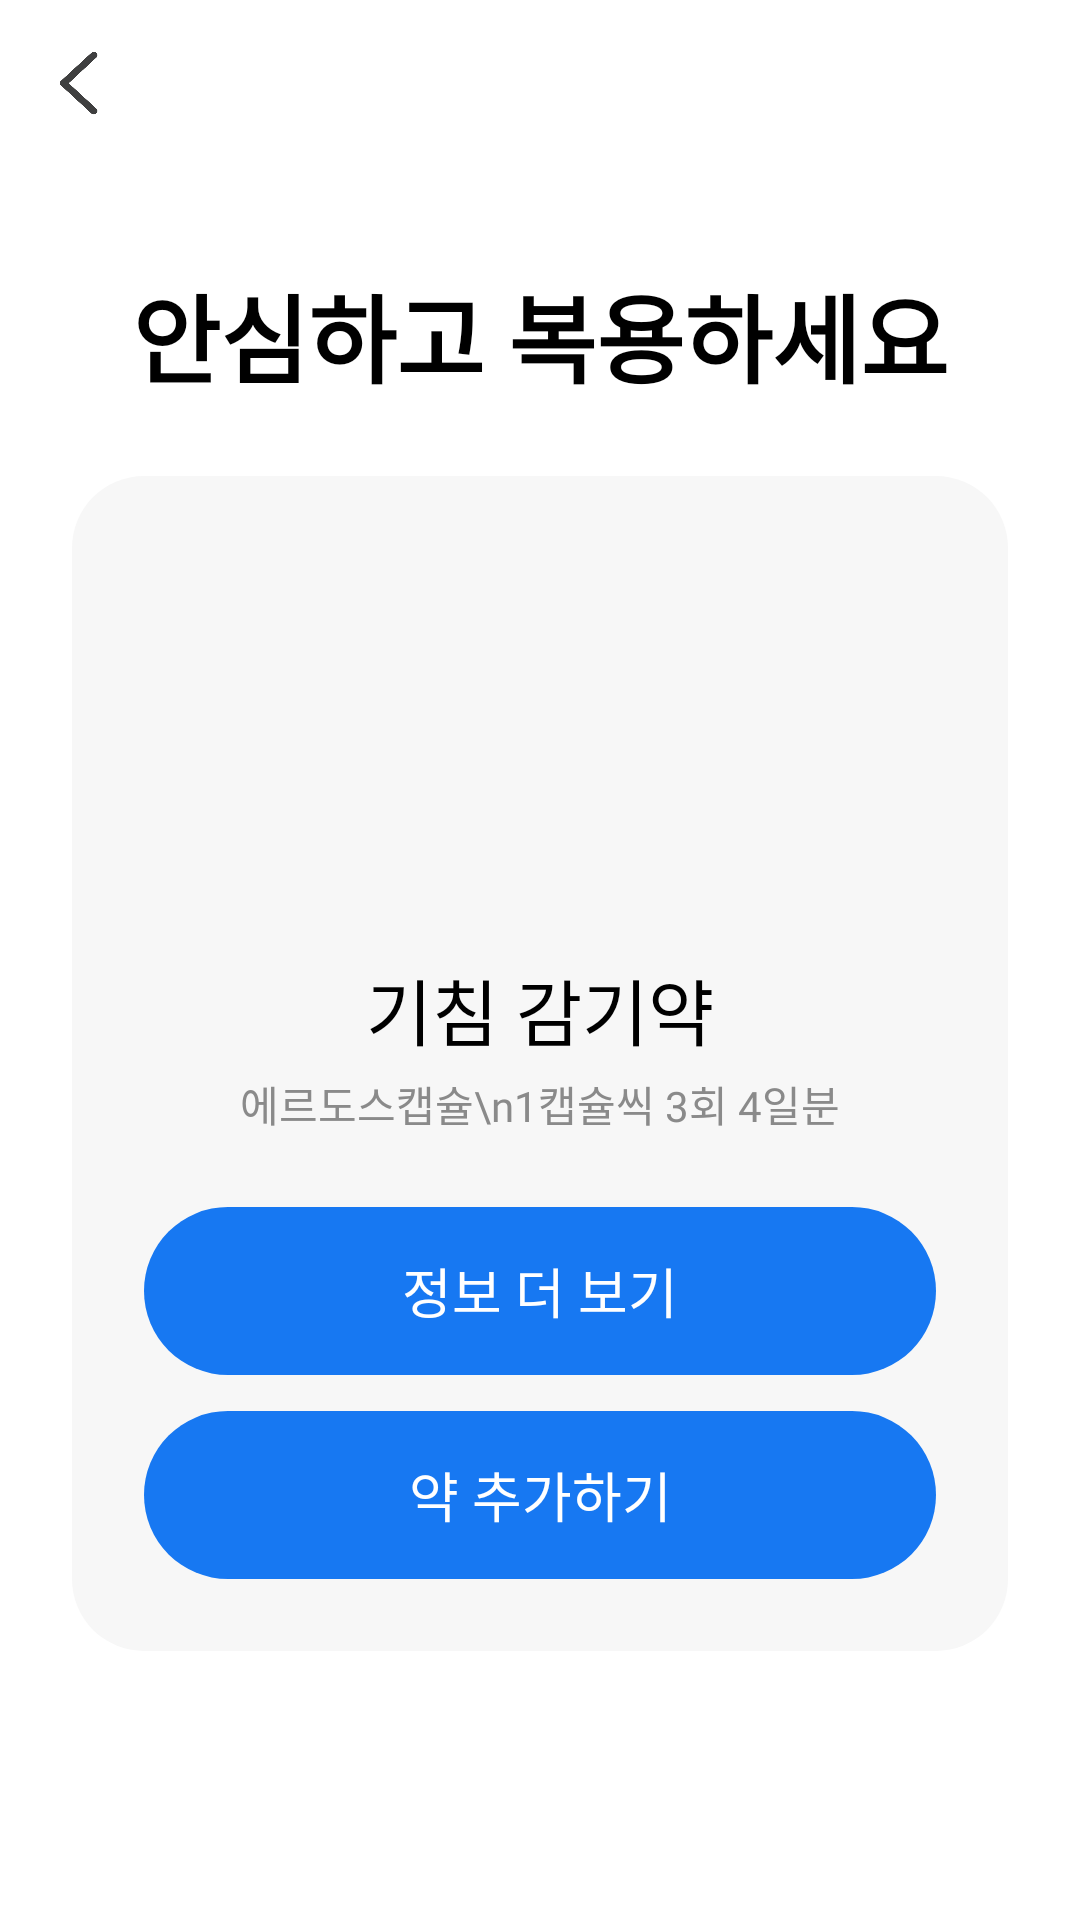

Locate icon controls on the screen. Image size 1080w x 1920h, boxes as [x1=x1, y1=y1, x2=x2, y2=y2].
return: [x1=60, y1=52, x2=98, y2=114]
